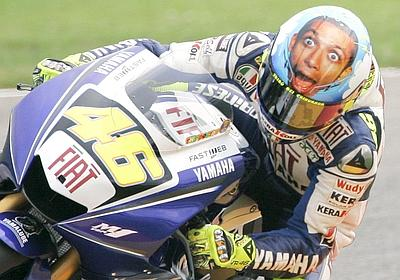helmet: (254, 6, 368, 151)
